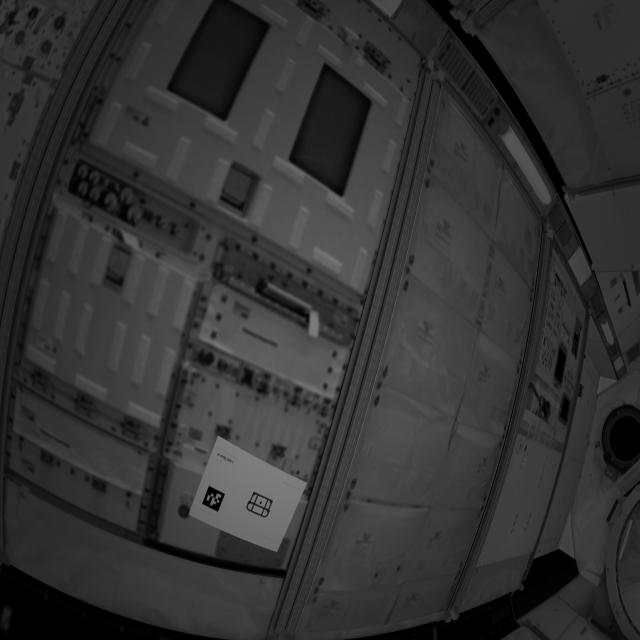treasure_box: (237, 484, 283, 523)
